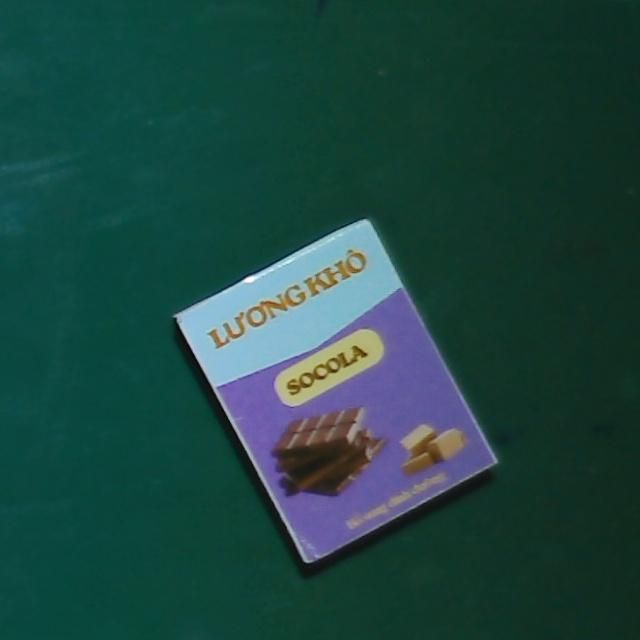socola: (172, 215, 498, 568)
